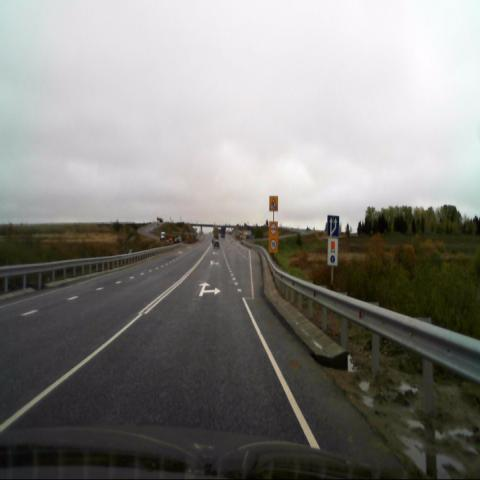4_8_2: (328, 238, 338, 266)
